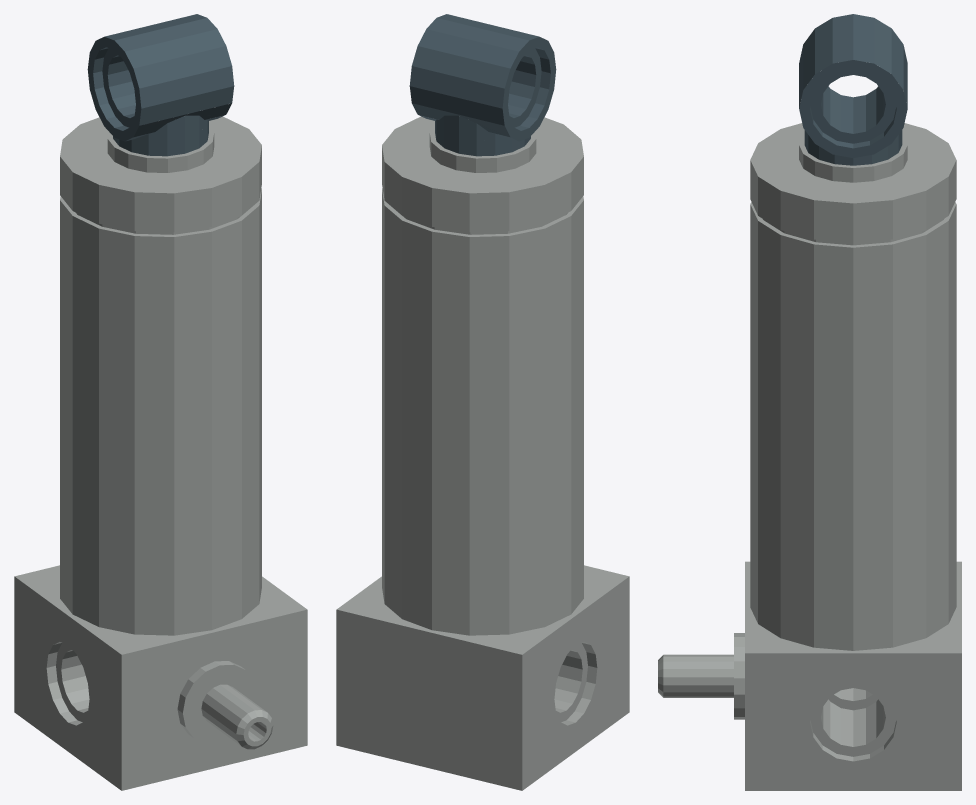
3 renders of one model, left to right at view 1: azimuth 30°, elevation 25°; view 2: azimuth 150°, elevation 25°; view 3: azimuth 270°, elevation 25°, orthographic.
Visible parts, largest first — view 1: world; view 2: world; view 3: world.
Part boxes in pixels (x1,y1,x2,y2): world: [14, 14, 307, 790]; world: [336, 14, 629, 790]; world: [658, 14, 961, 790].
Bounding box in the file's own units: 0.016 × 0.0576 × 0.0224.
